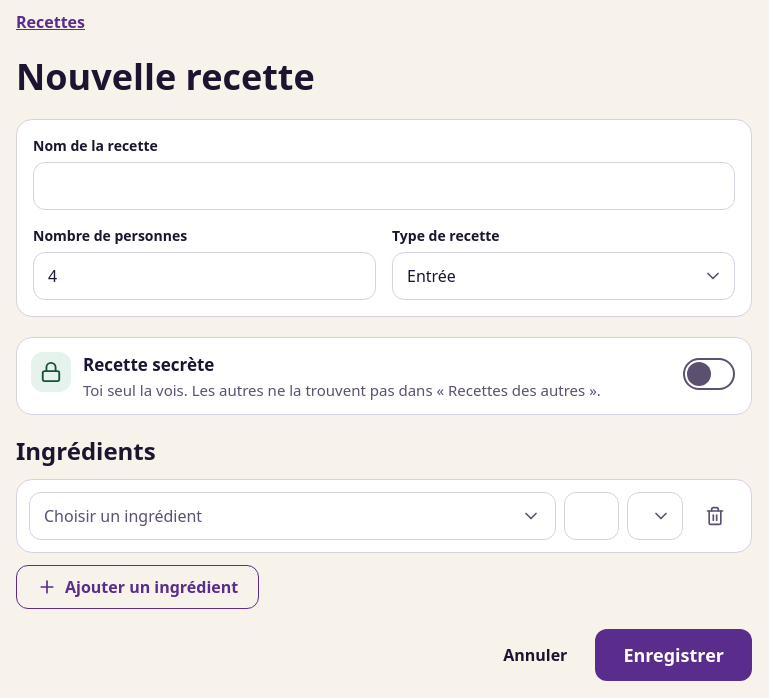
Test: RecipeEditorView › création › demande au moins une ligne
Expected: the dropdown labelled "Type de recette" is shown, [392,252,735,300]
Click the button named "Retirer l": (715, 516) [691,492,739,540]
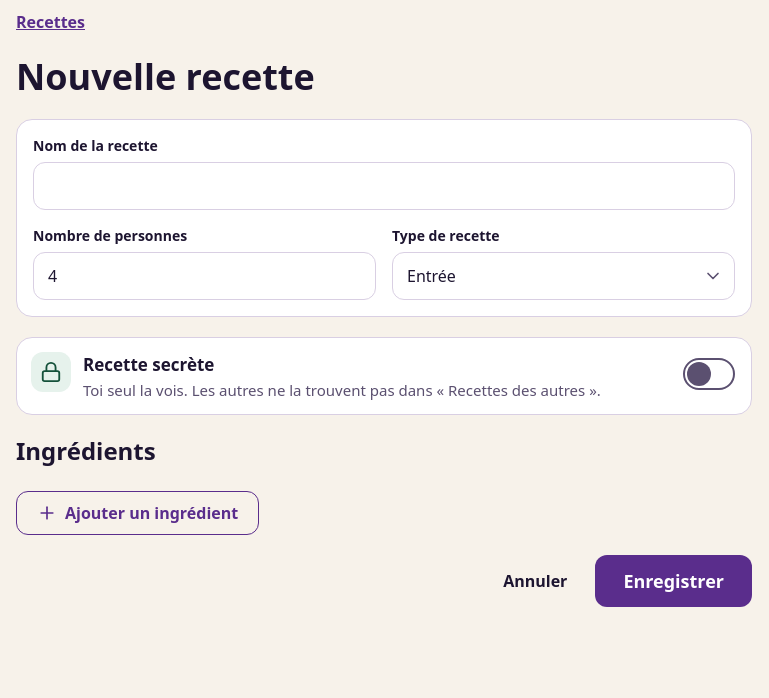
Submit the form
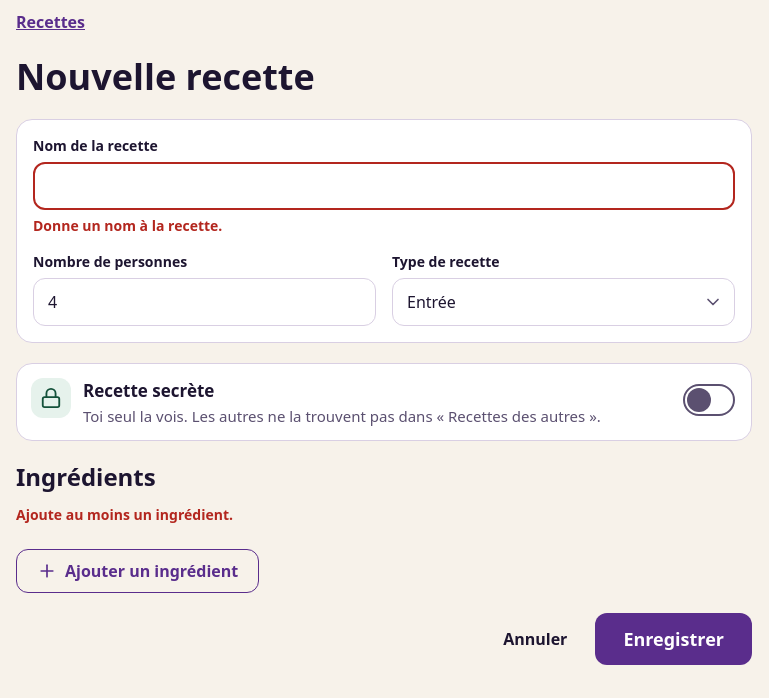
Expected: the text "Ajoute au moins un ingrédient." is shown, [16,505,233,524]
